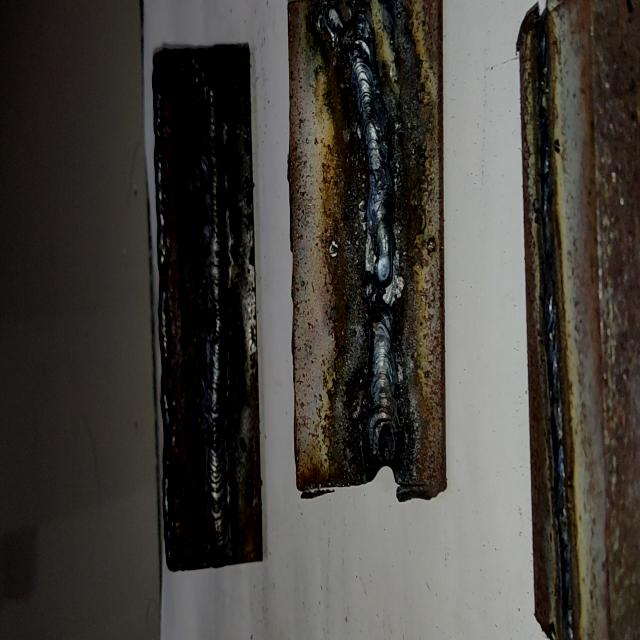Bad Weld: (320, 5, 401, 453)
Defect: (355, 250, 406, 337), (311, 7, 392, 57)
Good Weld: (536, 27, 572, 630), (202, 80, 229, 555)
